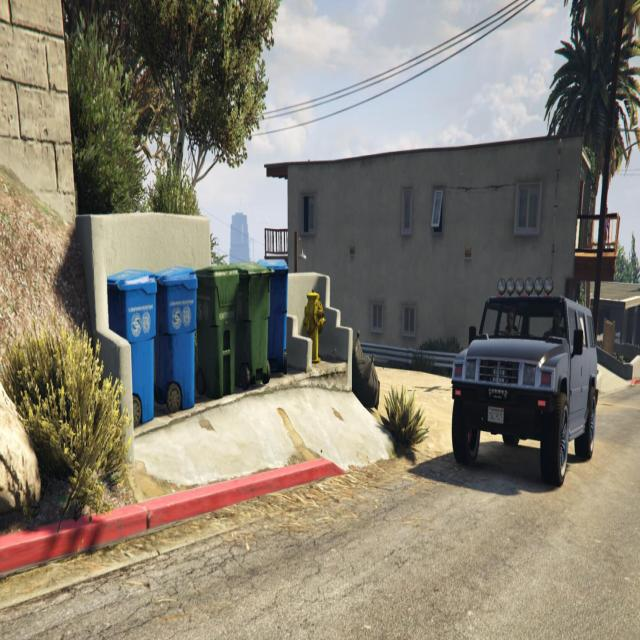ash bin: (108, 268, 158, 426), (154, 264, 199, 412), (195, 261, 240, 399), (235, 260, 274, 386), (257, 257, 289, 374)
car: (450, 276, 599, 487)
fire_hydrant: (302, 288, 326, 361)
